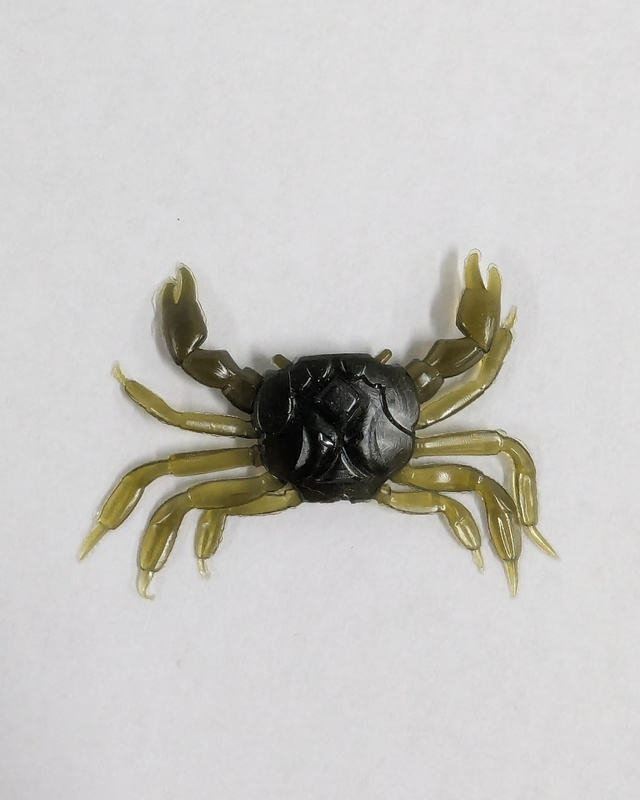crab2: (75, 250, 563, 603)
